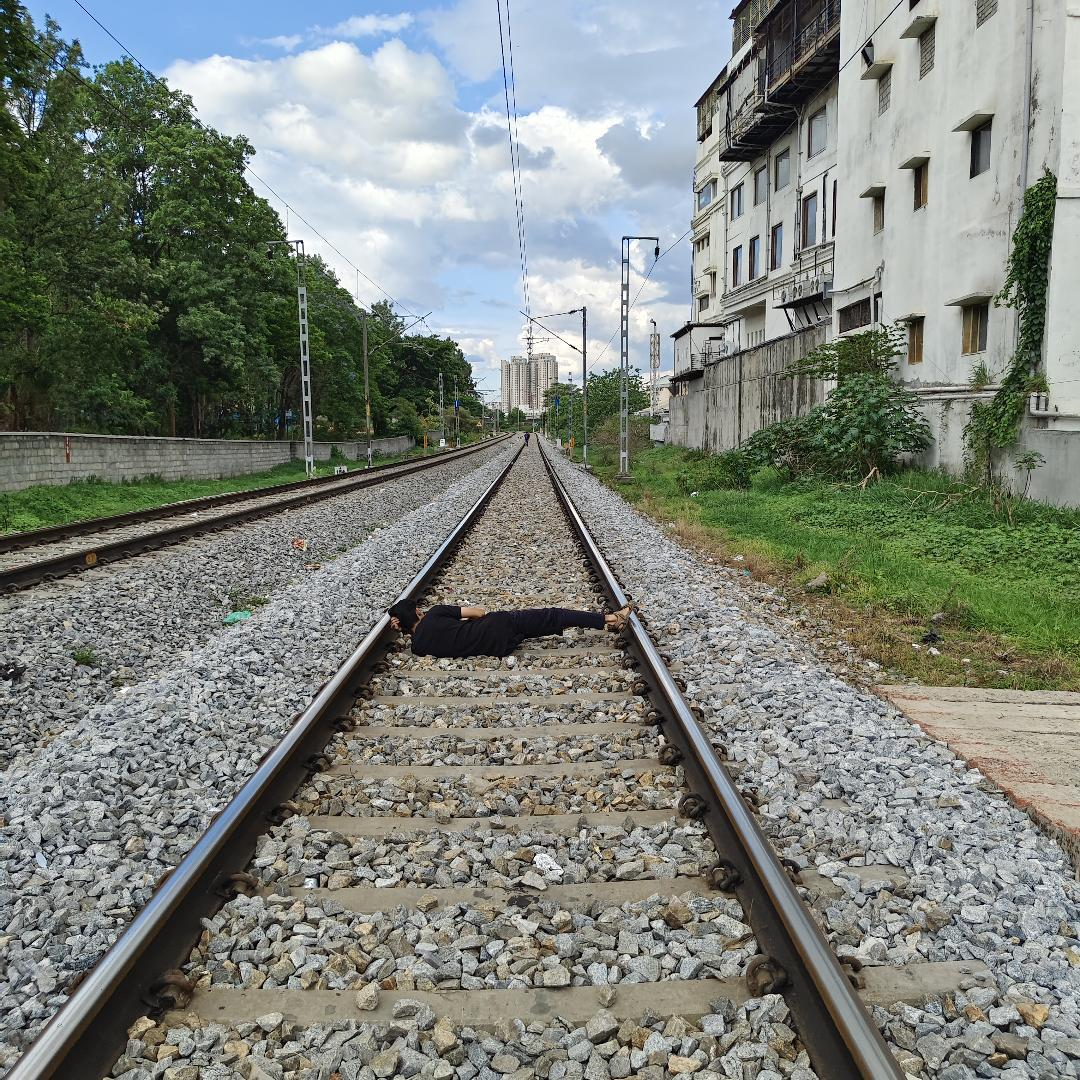sleeping: (377, 590, 653, 668)
